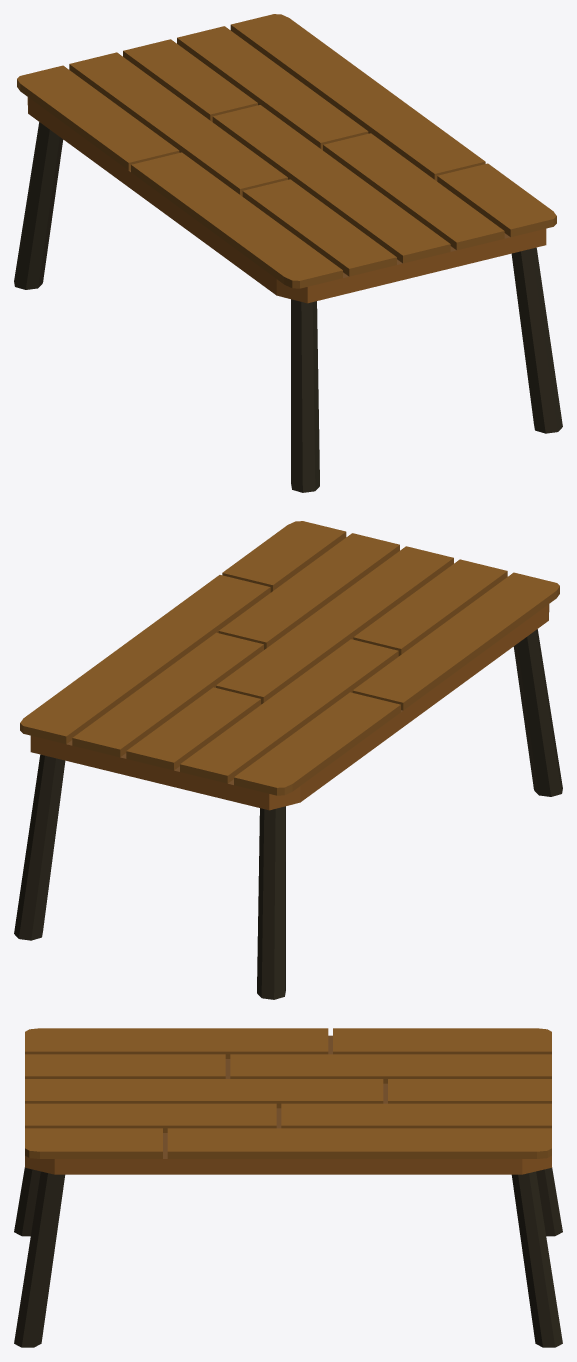
Rendered from Table.fbx.
3 renders of one model, top to bottom at view 1: azimuth 30°, elevation 25°; view 2: azimuth 150°, elevation 25°; view 3: azimuth 270°, elevation 25°, orthographic. The views are drawn at different scales.
Parts seen in each view (by area): view 1: Table; view 2: Table; view 3: Table.
Boxes of the visible parts, x1,y1,x2,y2 form: Table: (14,14,562,492); Table: (14,521,562,999); Table: (14,1028,562,1347).
Size of the model in its own units: 5.73 by 4.24 by 10.76.
